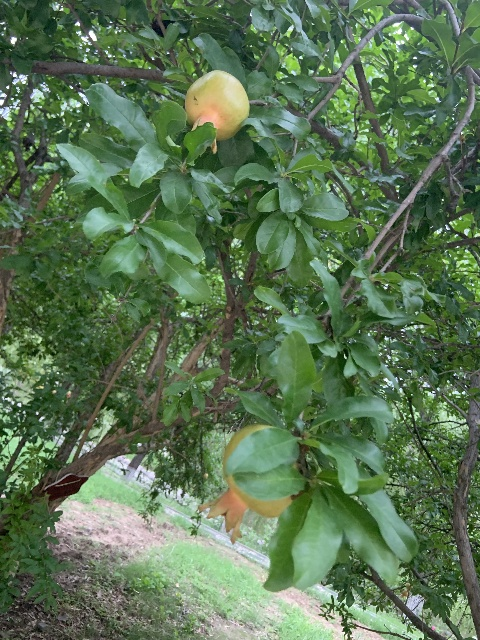mid-growth: (199, 423, 301, 545), (184, 69, 249, 155)
